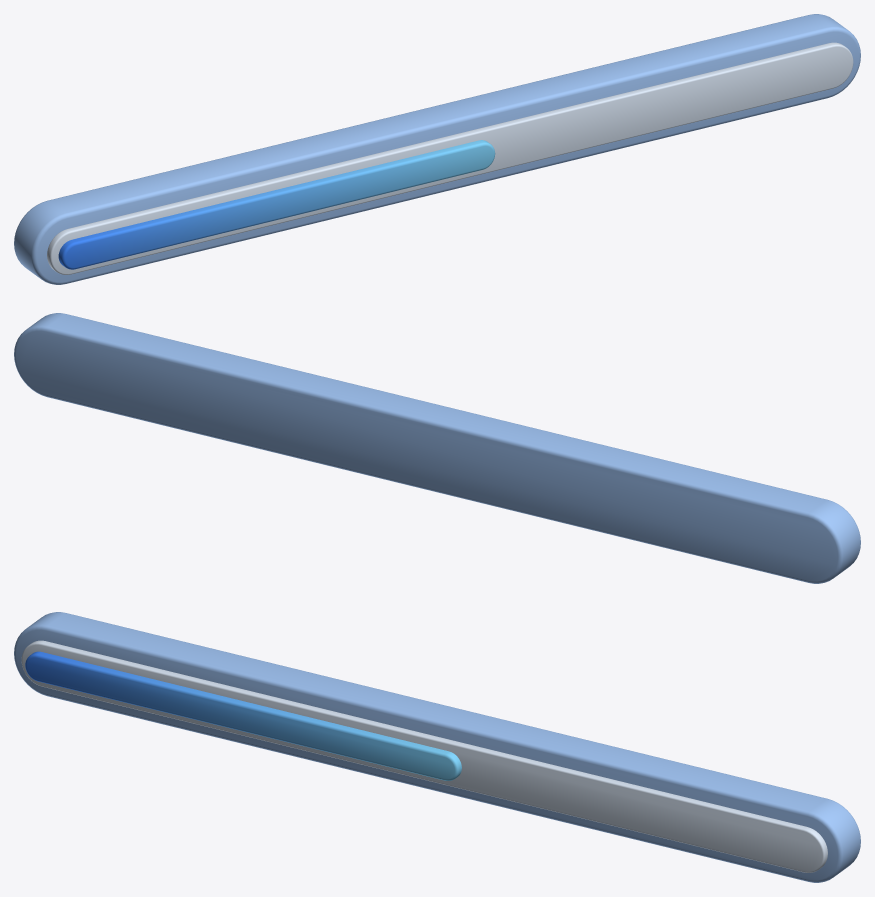
The model's file is progreso-claro.glb.
3 views of the same model, one above another, from view 1: azimuth 30°, elevation 25°; view 2: azimuth 150°, elevation 25°; view 3: azimuth 330°, elevation 25° (orthographic).
Visible parts, largest first — view 1: borde, canal, relleno; view 2: borde; view 3: borde, canal, relleno.
Part boxes in pixels (x1,y1,x2,y2): borde: (14, 14, 860, 284); canal: (47, 42, 853, 274); relleno: (58, 140, 495, 269); borde: (14, 313, 860, 583); borde: (14, 612, 860, 882); canal: (21, 640, 827, 872); relleno: (25, 651, 461, 780).
Size of the model in its own units: 3.2 by 0.26 by 0.2.
